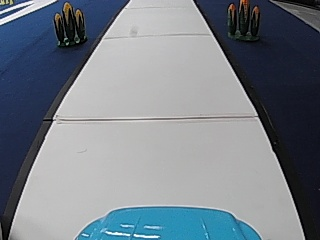corn: (52, 1, 88, 47), (224, 0, 262, 41)
